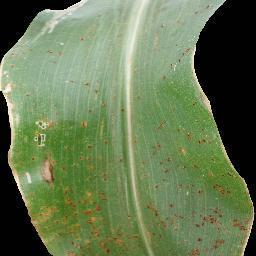Corn_Common_Rust: (60, 81, 125, 256), (125, 193, 256, 256), (153, 0, 226, 77), (25, 114, 60, 256), (2, 31, 24, 218), (145, 159, 251, 194), (24, 0, 86, 38), (193, 78, 218, 125), (177, 125, 224, 146), (27, 41, 64, 66), (92, 6, 105, 37), (171, 146, 192, 160), (150, 140, 163, 159), (157, 120, 169, 131), (135, 91, 145, 102)
